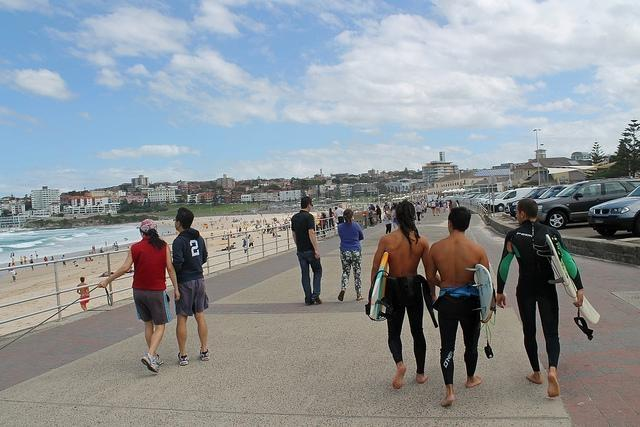car: (536, 178, 640, 227), (591, 180, 640, 235), (508, 187, 550, 218), (486, 188, 539, 212), (481, 192, 502, 207), (475, 193, 490, 199)
